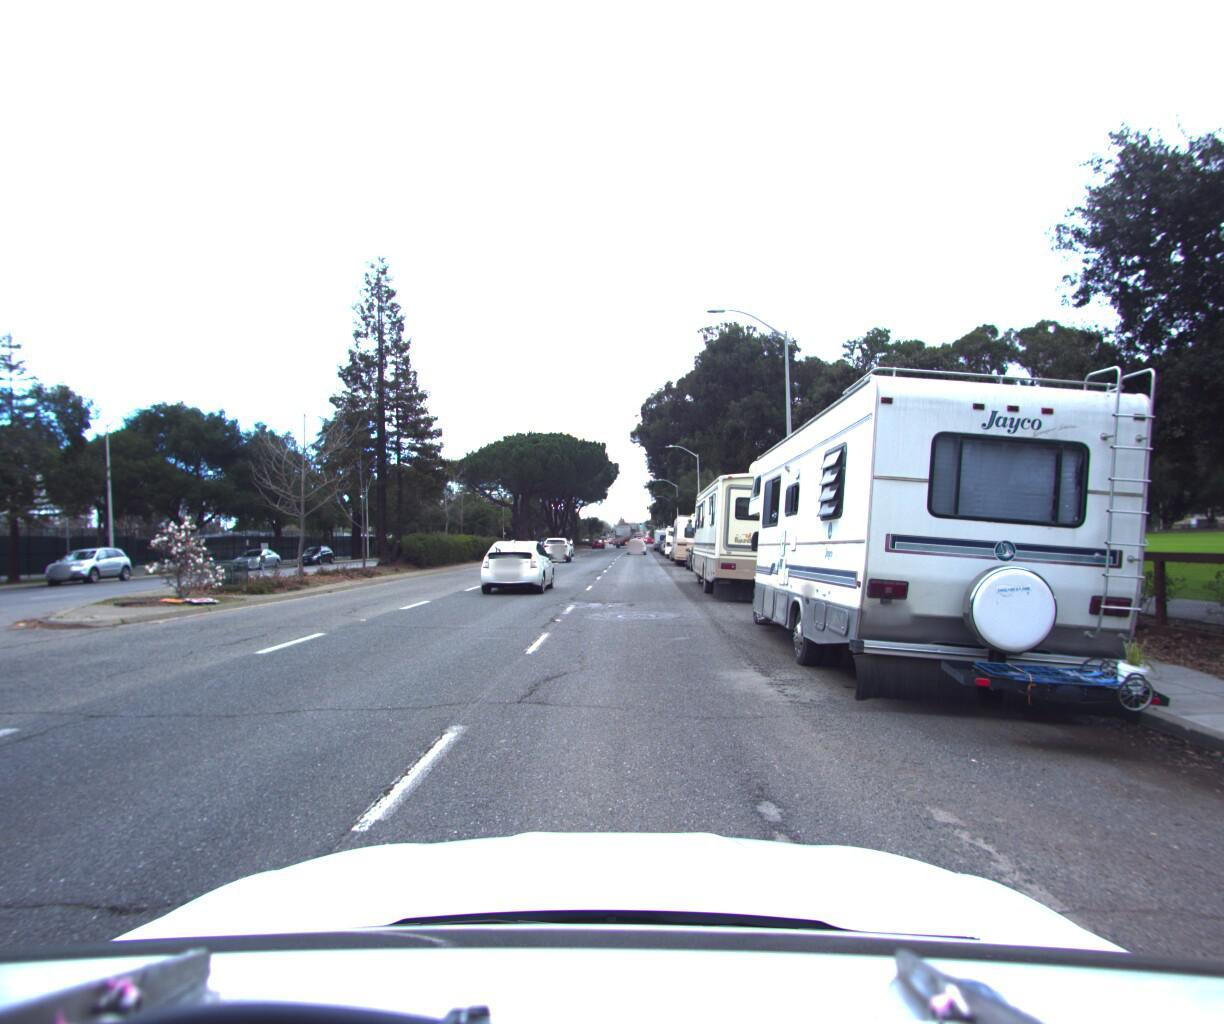car: (477, 533, 558, 592), (36, 542, 142, 587), (227, 542, 286, 570), (294, 541, 339, 564), (542, 531, 573, 556), (627, 531, 647, 548)
other_vehicle: (729, 329, 1206, 742), (688, 451, 829, 608), (668, 502, 722, 563), (661, 519, 691, 553)
